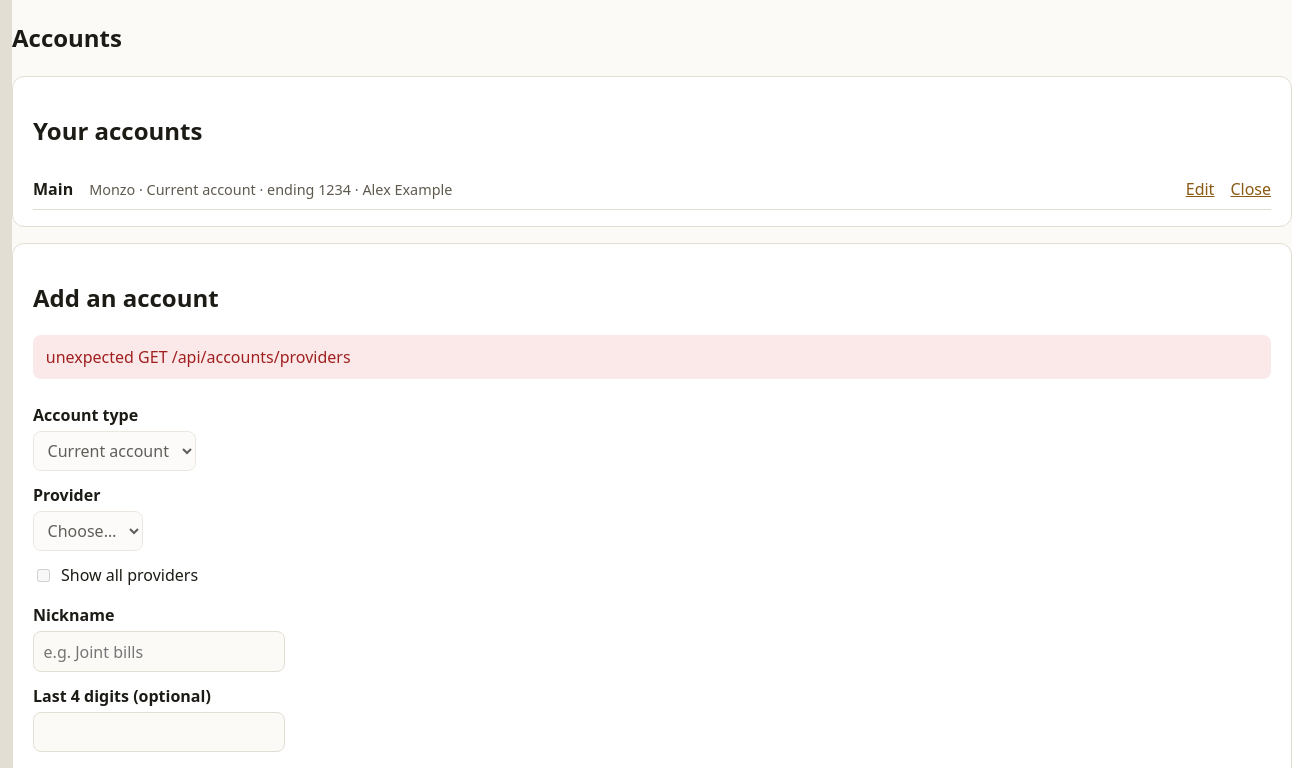
Test: shows the conflict message and reloads on a stale close
The width and height of the screenshot is (1292, 768).
Click the button with aria-label "Close Main": (1251, 189) [1230,177,1271,201]
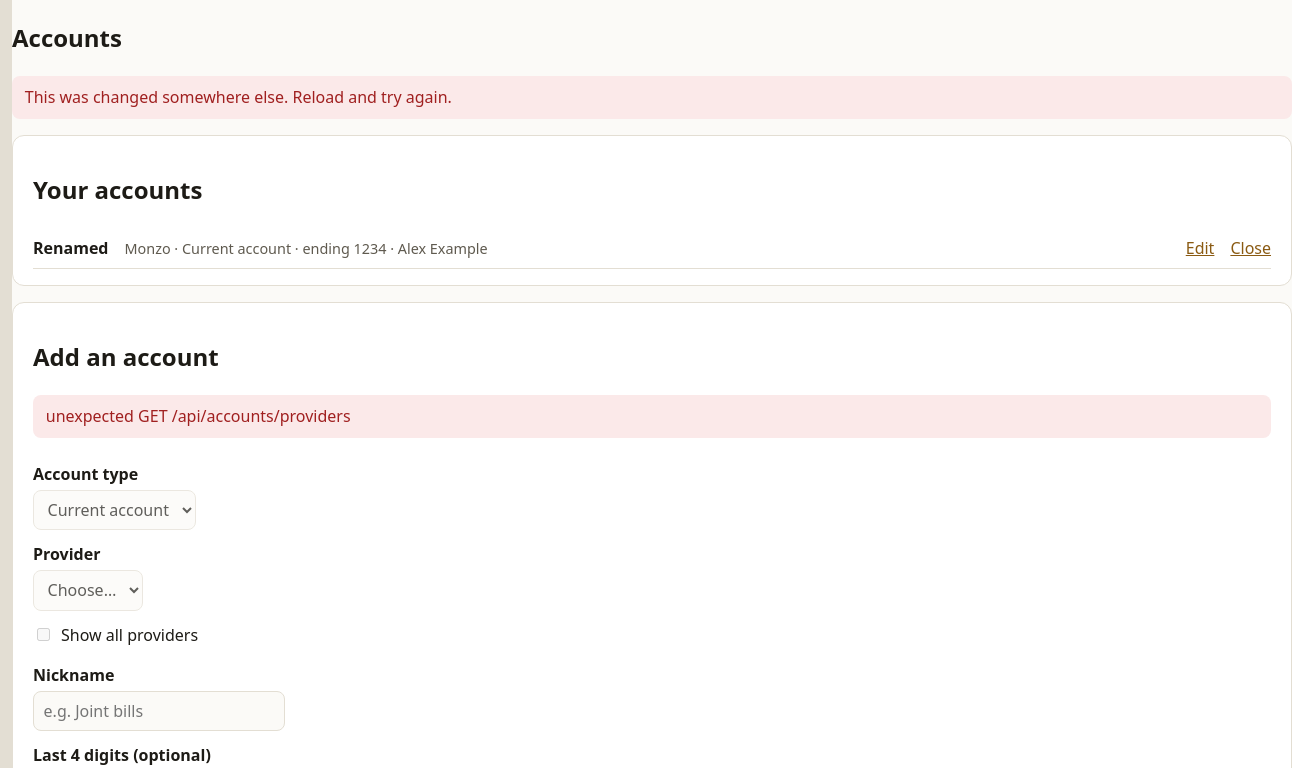
Expected: the text "This was changed somewhere else. Reload and try again." is shown, [12,76,1291,119]
Expected: the text "Renamed" is shown, [33,236,108,260]
